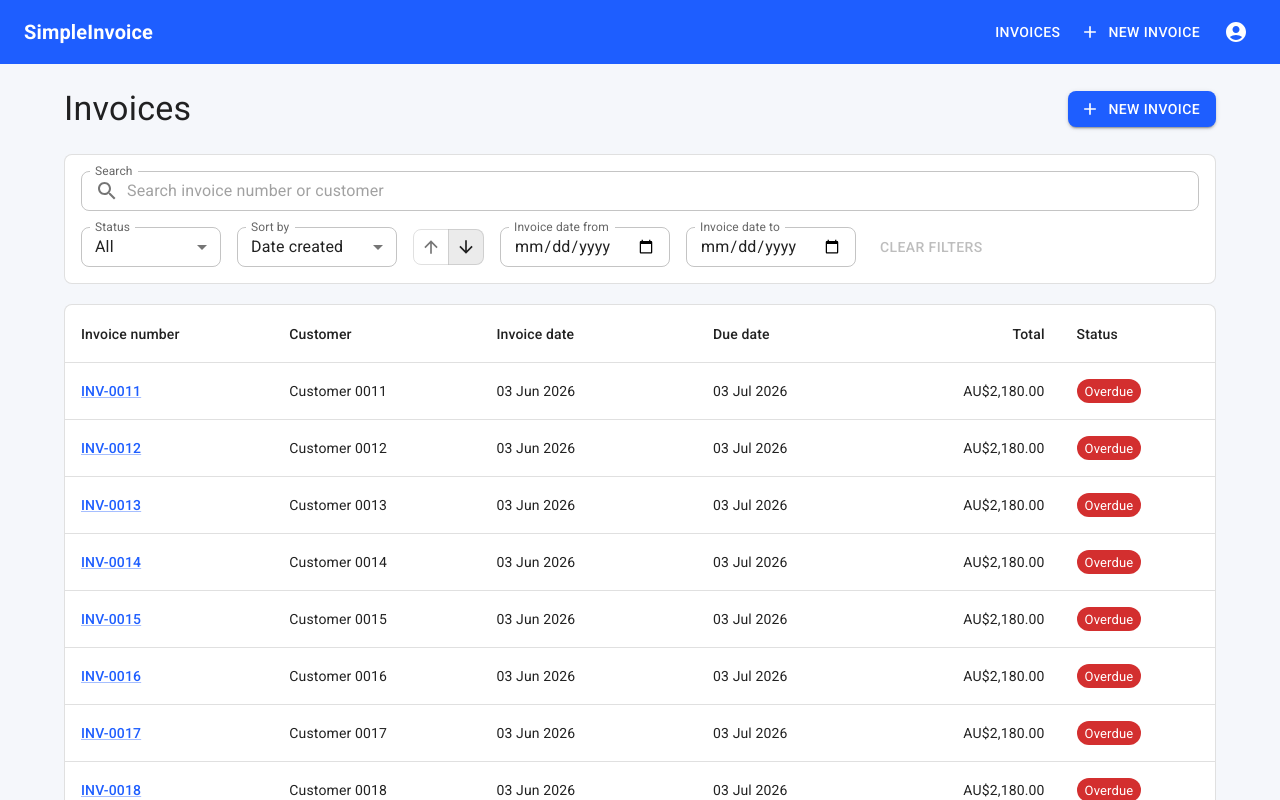
InvoiceListPage › filters by Status and starts again at page 1
The width and height of the screenshot is (1280, 800).
Expected: the link "INV-0011" is shown, x1=81 y1=383 x2=141 y2=399
Click the dropdown named "Status".
click(104, 247)  # box x1=95 y1=238 x2=114 y2=256
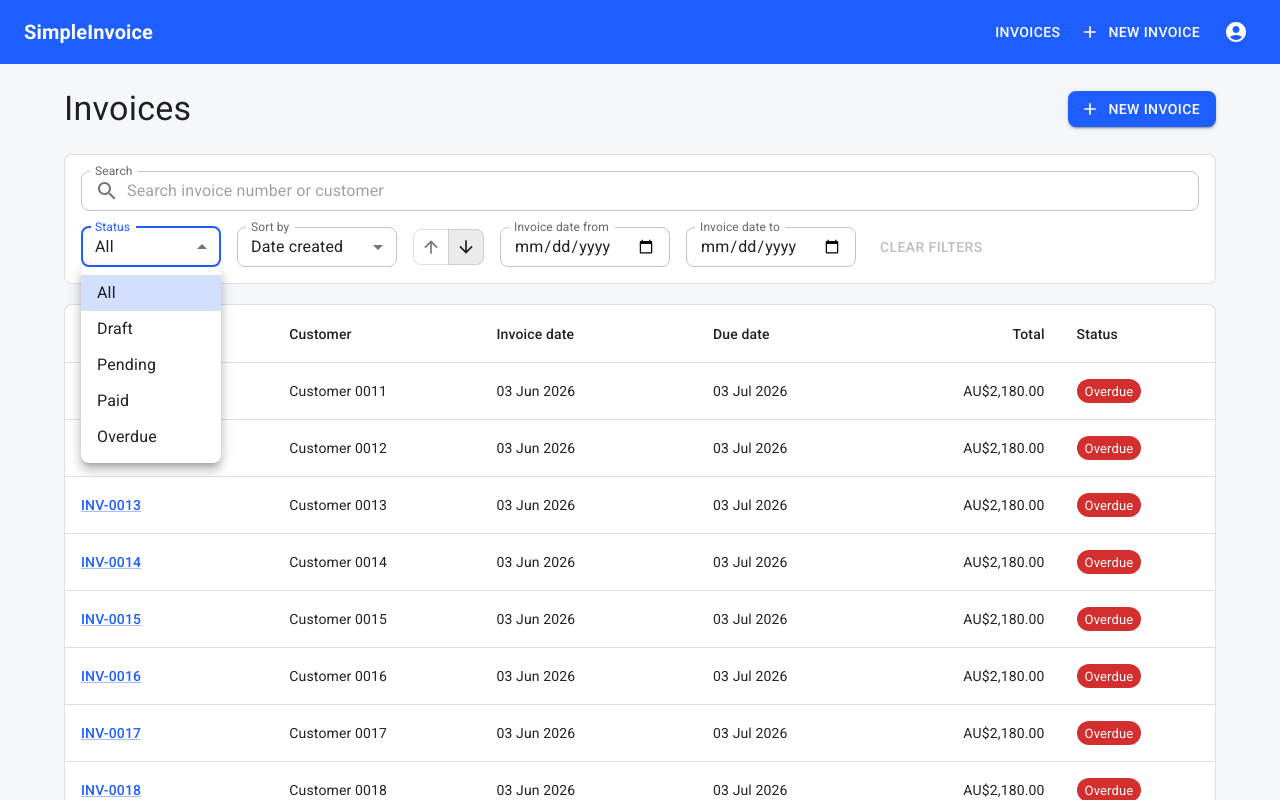
Click the option "Overdue".
click(127, 436)  # box x1=97 y1=427 x2=157 y2=446
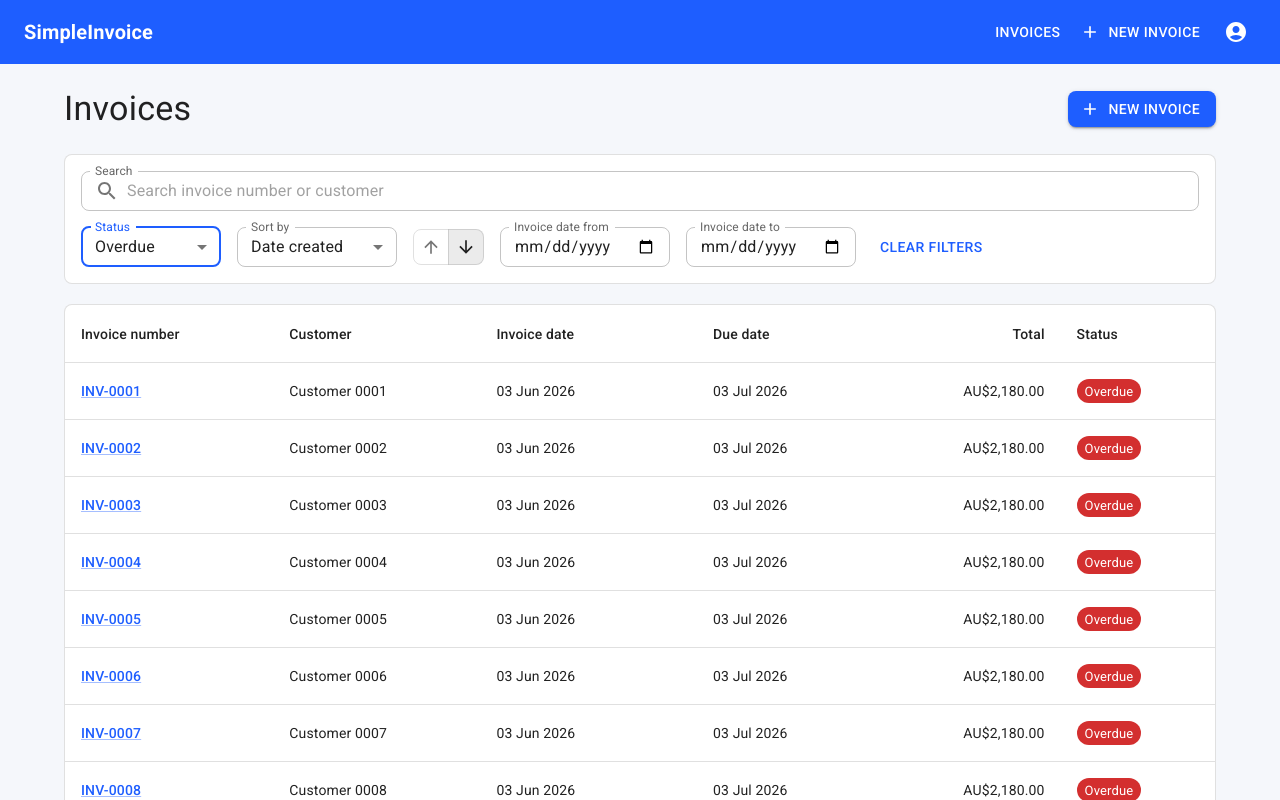
Now the dropdown named "Status" reads "Overdue", box x1=95 y1=238 x2=155 y2=256
